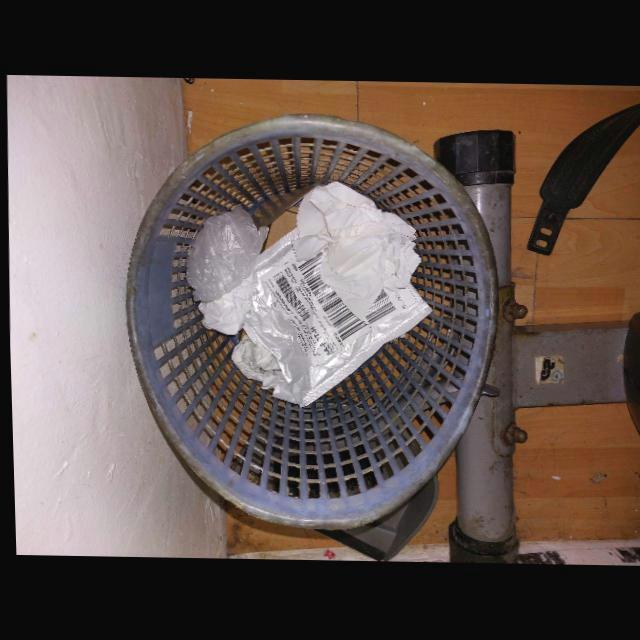paper: (289, 182, 419, 296), (226, 335, 294, 403), (194, 269, 255, 333)
plastic_bag: (240, 227, 430, 407), (183, 202, 265, 302)
